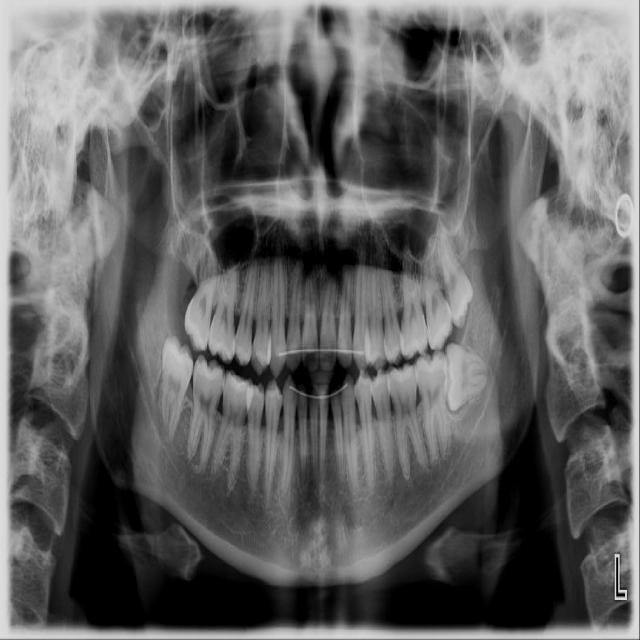impacted tooth: (156, 337, 193, 442), (445, 344, 494, 412)
